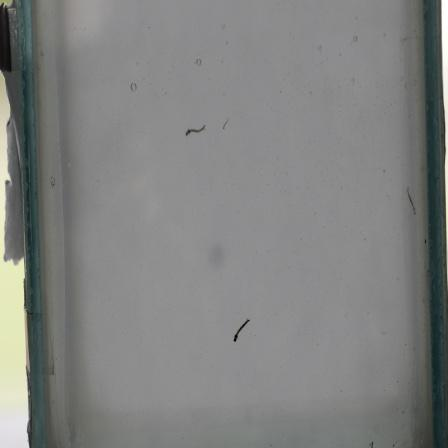Jentik-Nyamuk: (229, 315, 254, 344), (402, 183, 419, 219), (183, 120, 208, 138), (218, 114, 233, 132)
